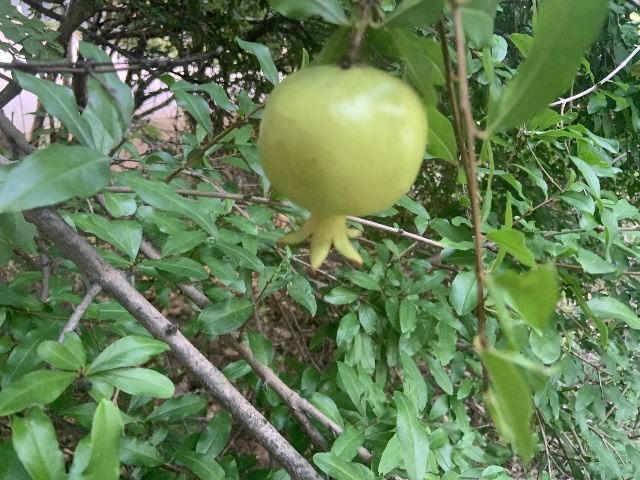mid-growth: (257, 64, 428, 276)
